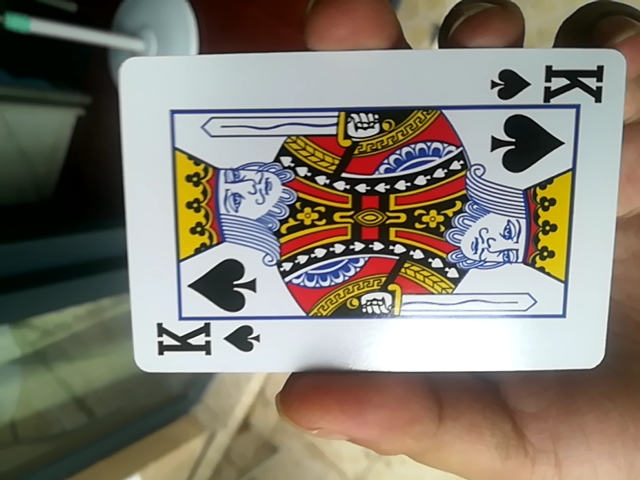ht k: (120, 45, 632, 385)
